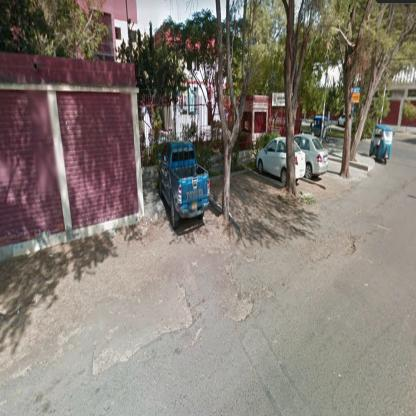Obstaculo: (92, 276, 199, 378), (239, 208, 363, 264), (194, 244, 256, 322), (244, 277, 276, 300)
Vehiculo: (159, 142, 211, 230)
